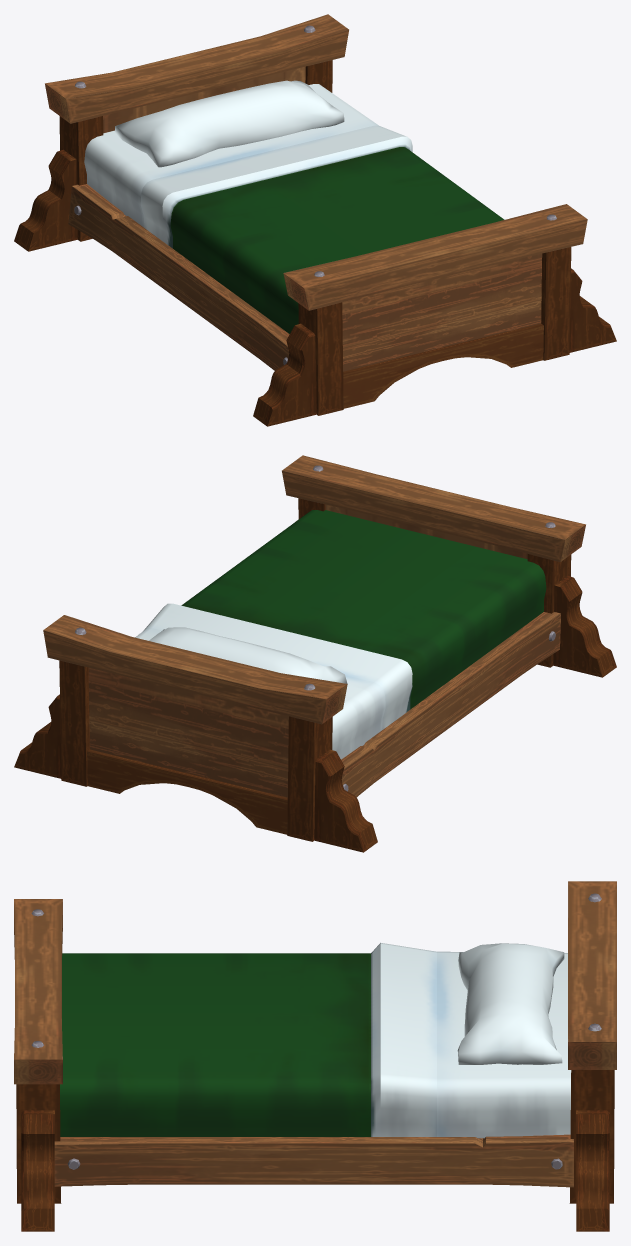
File: bed_twin2.glb
The picture shows the model from 3 angles, top to bottom: view 1: azimuth 30°, elevation 25°; view 2: azimuth 150°, elevation 25°; view 3: azimuth 270°, elevation 25°; orthographic projection. The views are drawn at different scales.
Parts seen in each view (by area): view 1: Bed_Twin2; view 2: Bed_Twin2; view 3: Bed_Twin2.
Boxes of the visible parts, x1,y1,x2,y2 form: Bed_Twin2: [14, 14, 616, 426]; Bed_Twin2: [14, 455, 616, 852]; Bed_Twin2: [14, 881, 616, 1231].
Bounding box in the file's own units: 1.88 × 0.7596 × 2.41.
Materials: 3 (3 with a texture image).
